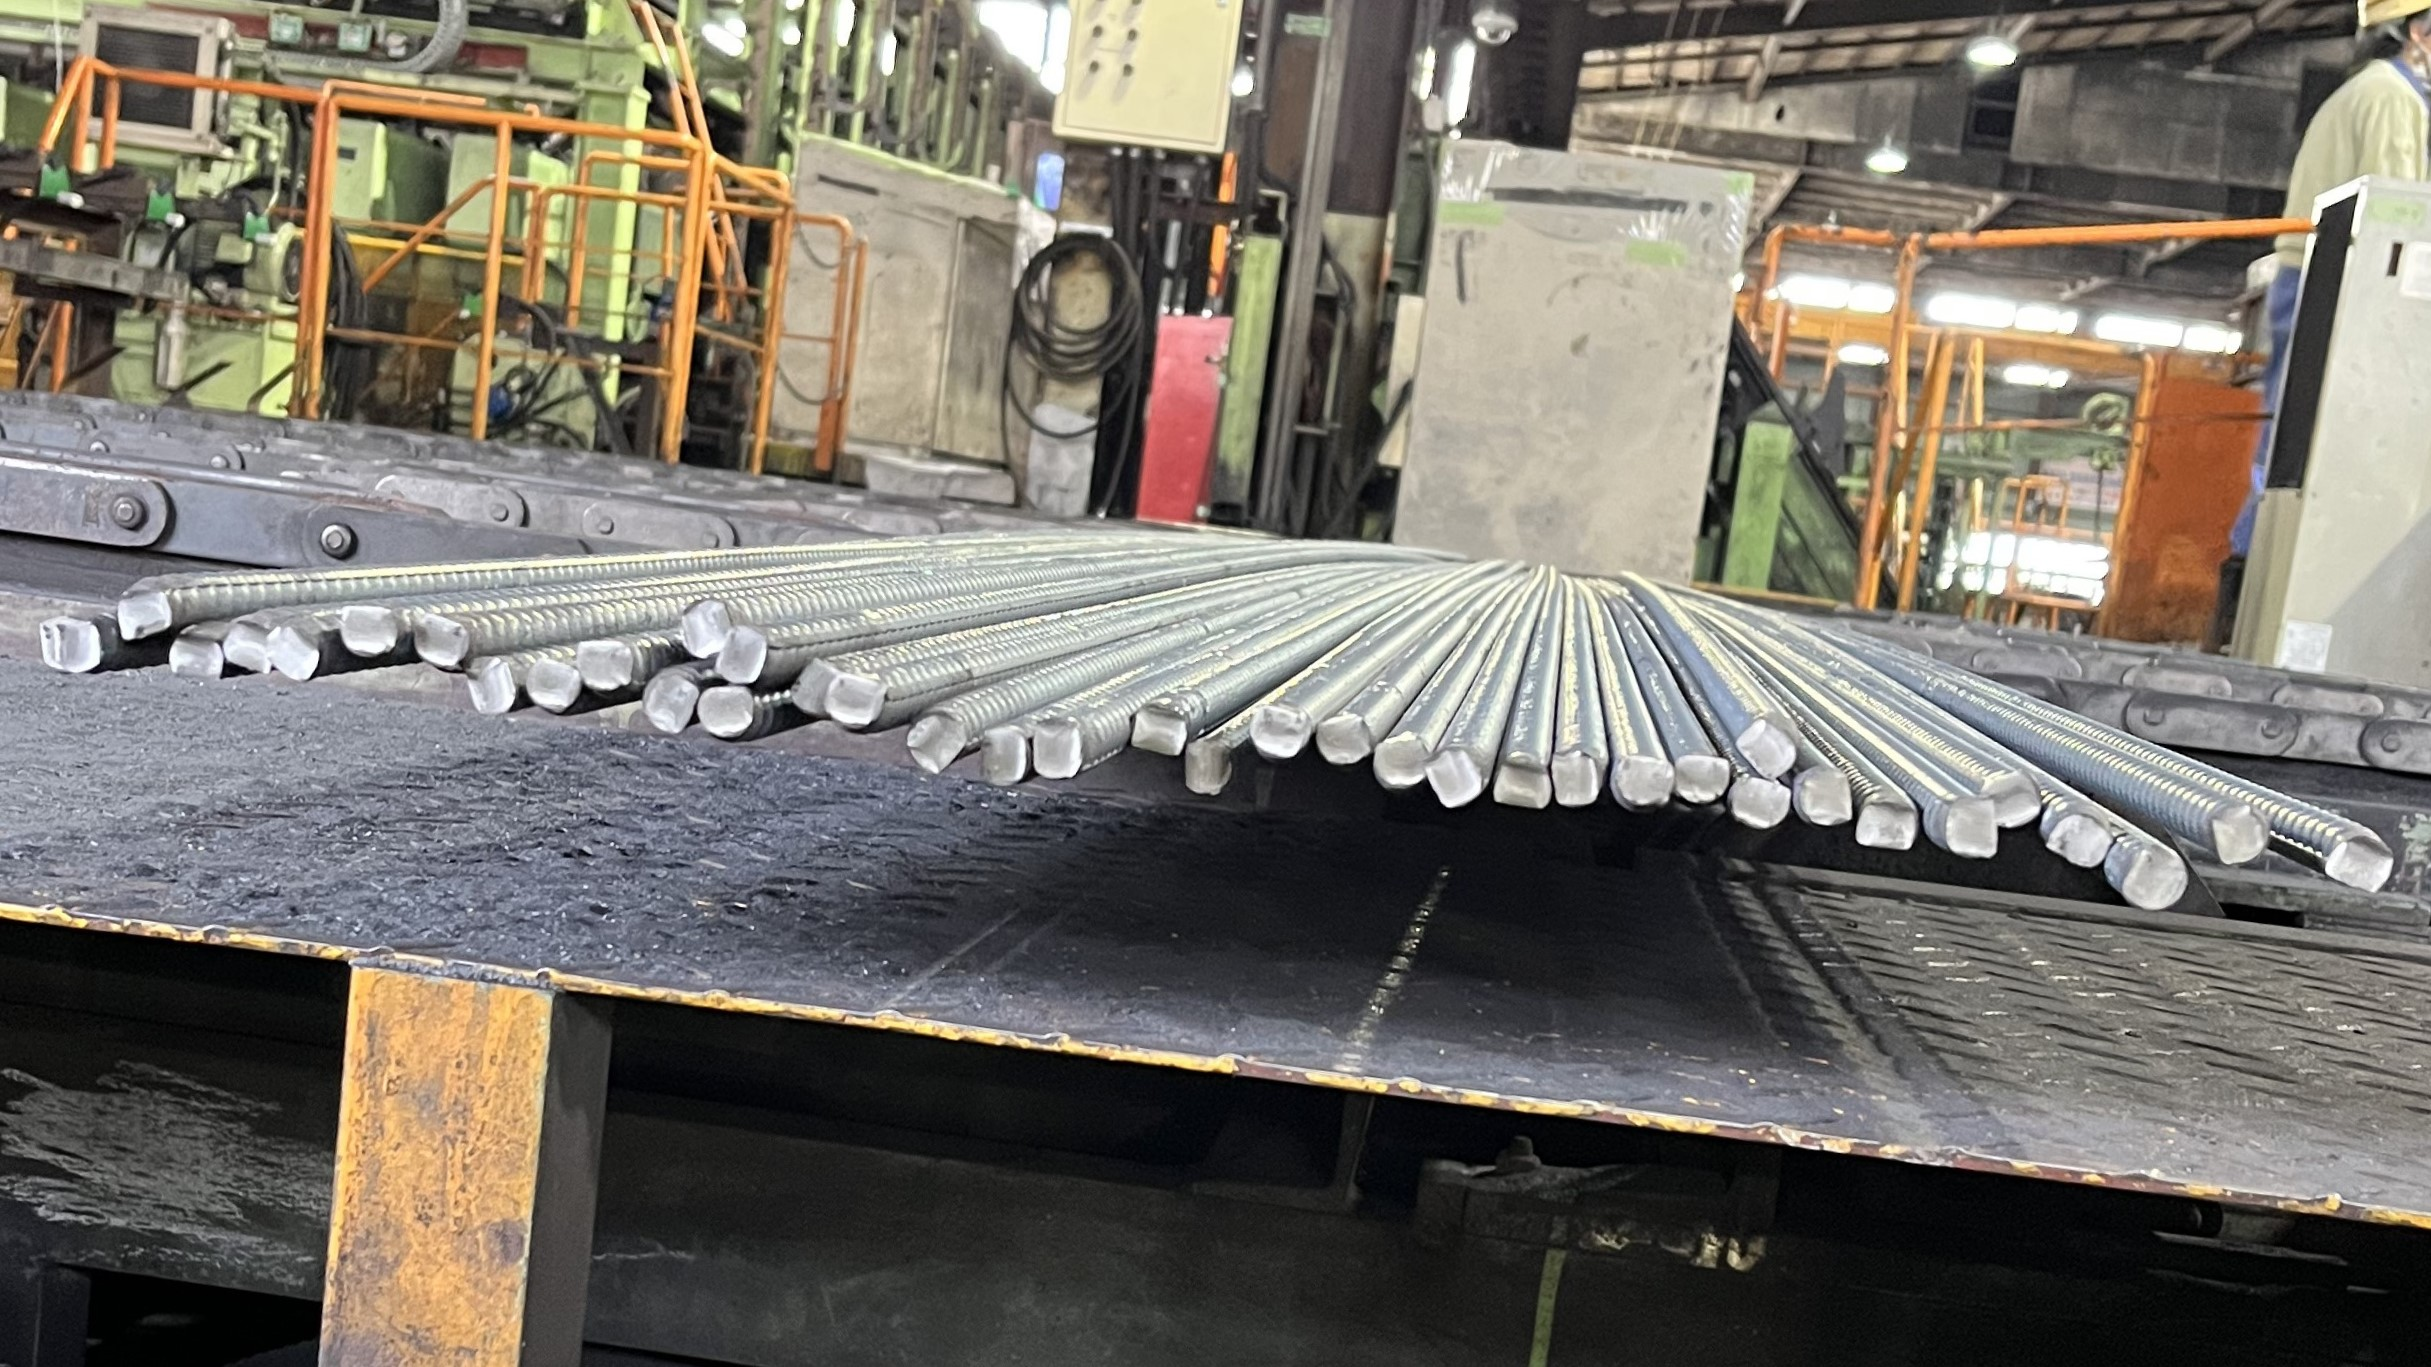rod: (2119, 846, 2191, 911), (2044, 811, 2119, 870), (903, 709, 968, 776), (35, 614, 104, 676), (1424, 744, 1488, 810), (2324, 835, 2394, 893), (1943, 794, 2004, 861), (1793, 764, 1853, 828), (2211, 803, 2271, 866), (1247, 703, 1312, 761), (1735, 719, 1800, 778), (1032, 713, 1087, 781), (1725, 774, 1793, 830), (639, 673, 700, 734), (1984, 769, 2044, 831), (713, 624, 771, 688), (1610, 754, 1676, 810), (412, 609, 469, 673), (1491, 753, 1554, 810), (823, 673, 888, 728), (1853, 800, 1920, 853), (1371, 733, 1431, 791), (264, 623, 321, 684), (574, 636, 636, 693), (678, 596, 733, 659), (115, 584, 174, 643), (524, 654, 583, 713), (695, 684, 756, 739), (1129, 703, 1189, 758), (466, 654, 518, 718), (220, 616, 275, 674), (339, 603, 397, 658), (1184, 738, 1236, 800), (978, 724, 1028, 788), (1316, 713, 1372, 768), (1549, 749, 1601, 810), (1675, 753, 1731, 806), (786, 658, 836, 716), (167, 634, 224, 679)
